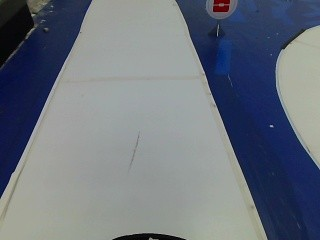company: (205, 0, 239, 21)
